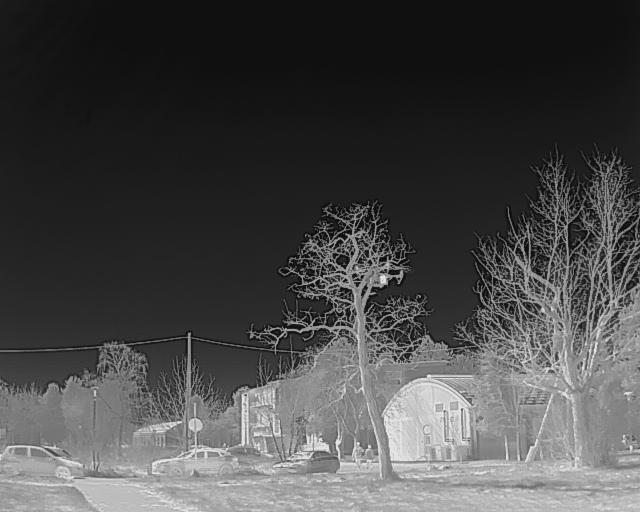drone: (341, 257, 416, 296)
